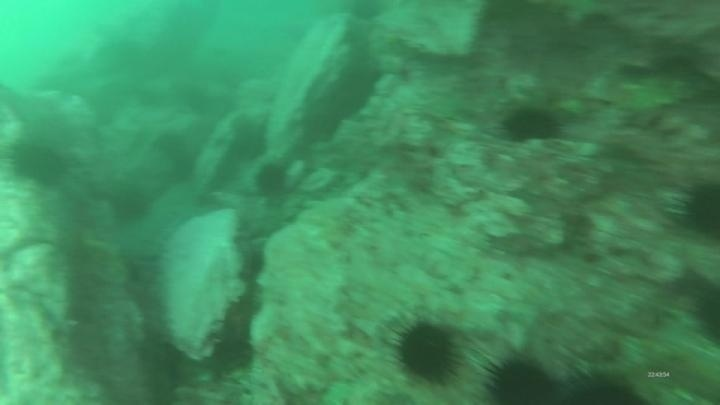echinus: (388, 315, 465, 387), (478, 351, 564, 404), (557, 362, 651, 405), (670, 176, 720, 244), (8, 137, 71, 190), (499, 104, 564, 146), (219, 293, 263, 344), (209, 330, 256, 375), (690, 279, 720, 345), (108, 184, 153, 226), (252, 160, 291, 200), (235, 245, 269, 287), (345, 1, 389, 24)
